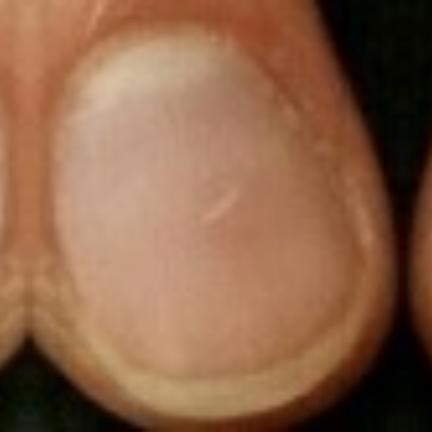Nail: (50, 23, 372, 420), (0, 123, 6, 257)
